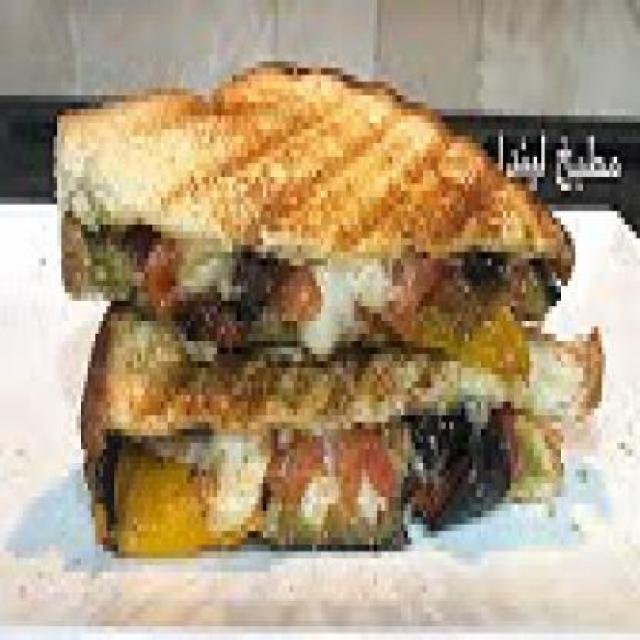eggplant: (87, 210, 556, 348), (95, 408, 507, 558)
french toast: (23, 54, 614, 218), (73, 313, 602, 409)
